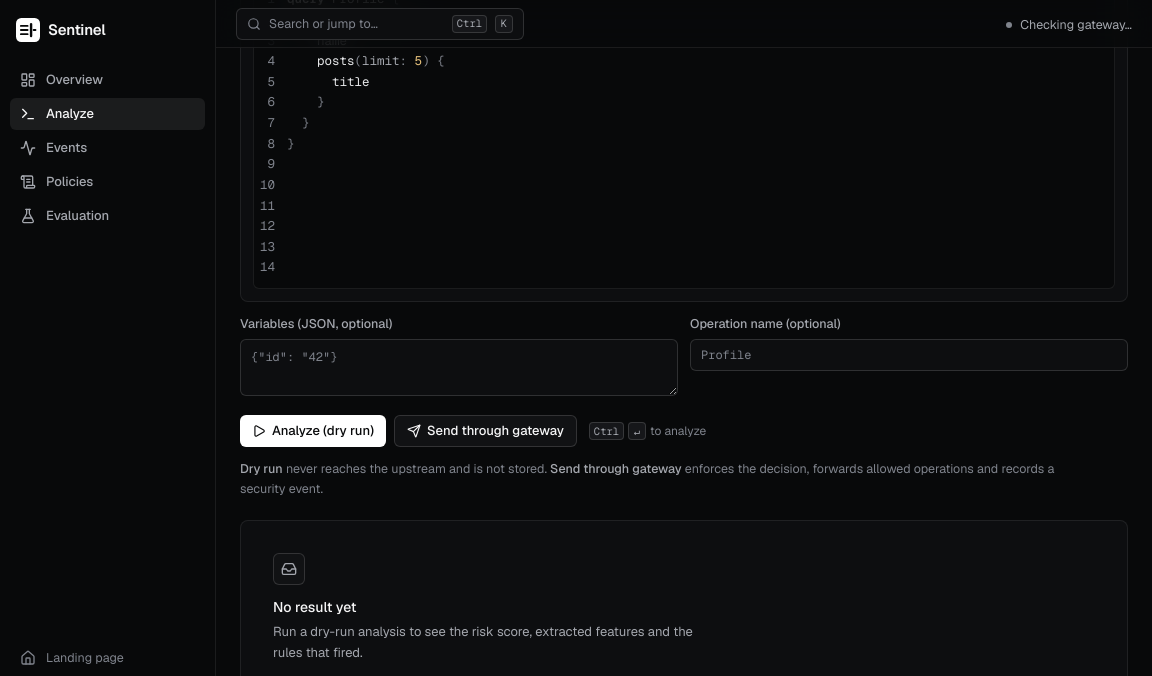
Test: shows an unreachable-gateway error
The image size is (1152, 676).
(page scrolled)
Click the button "Analyze (dry run)" at (313, 431), box x1=240 y1=415 x2=386 y2=447
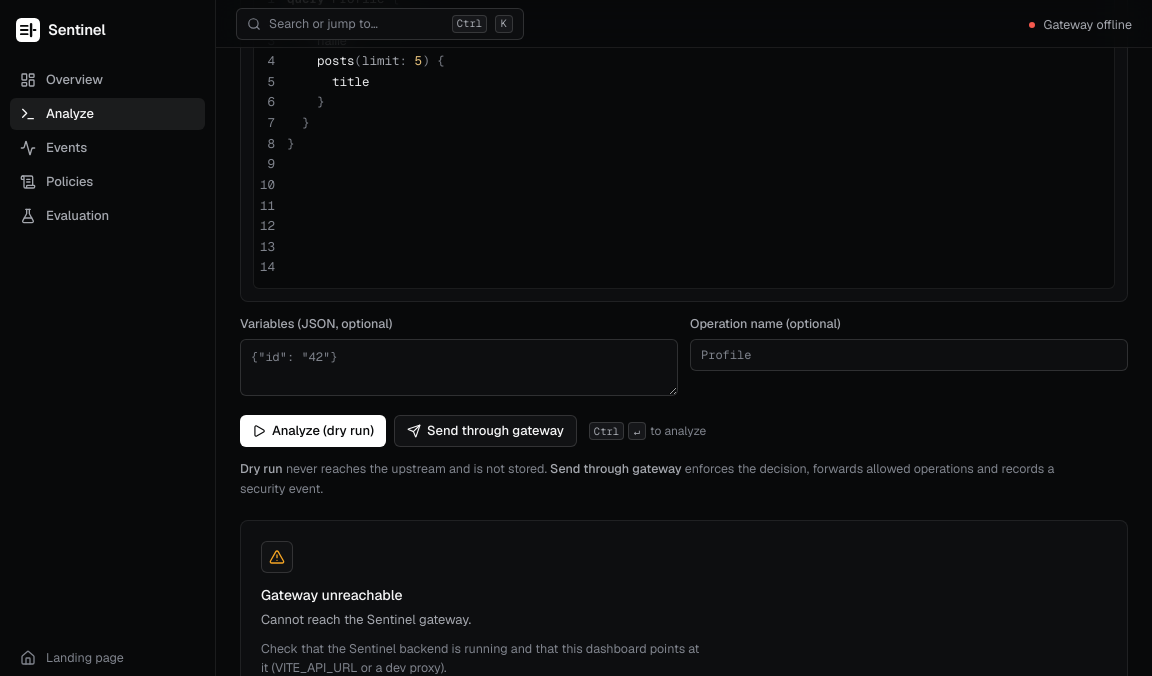
Now the text "Gateway unreachable" is shown, box x1=261 y1=585 x2=403 y2=606
